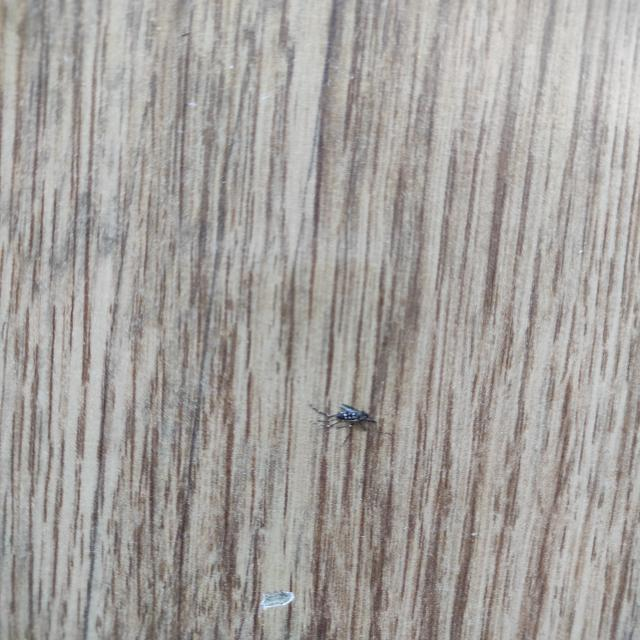albopictus: (301, 395, 384, 447)
